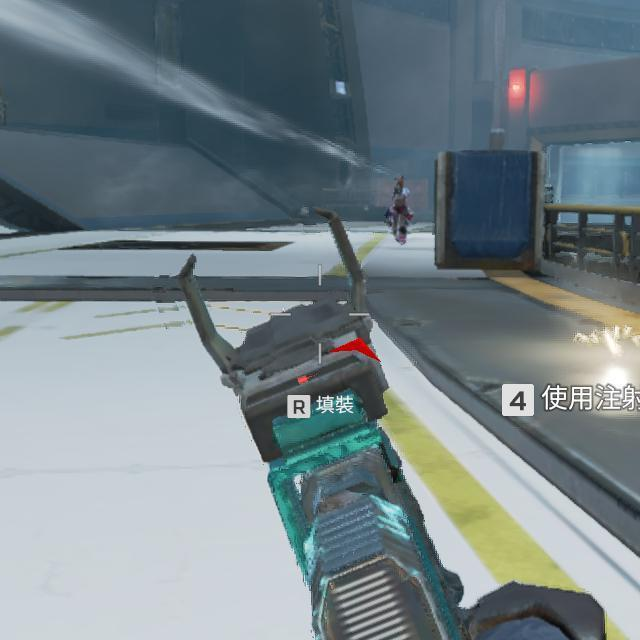avatar: (385, 172, 415, 245)
